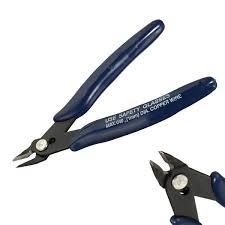pliers: (11, 17, 217, 168), (148, 149, 224, 219)
